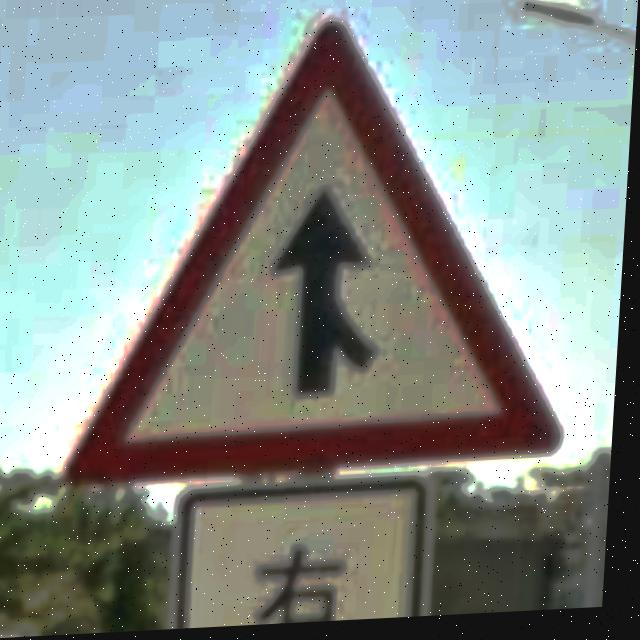rightmerge: (72, 25, 569, 488)
